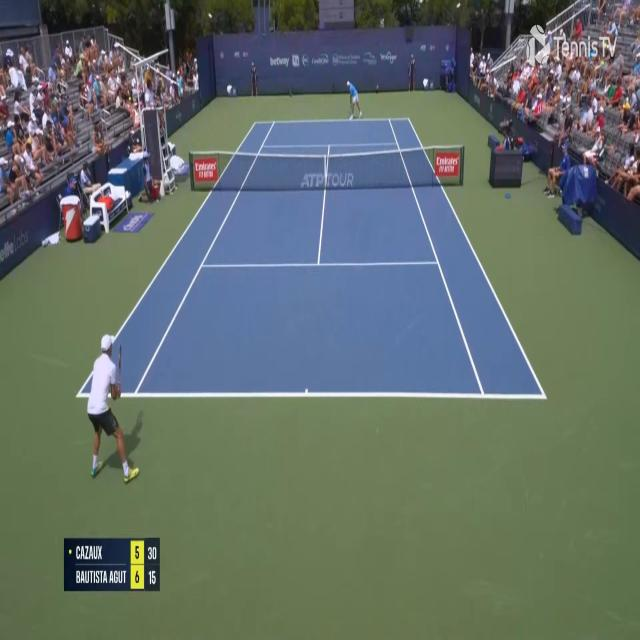tennis-player: (76, 332, 155, 488), (342, 77, 363, 122)
